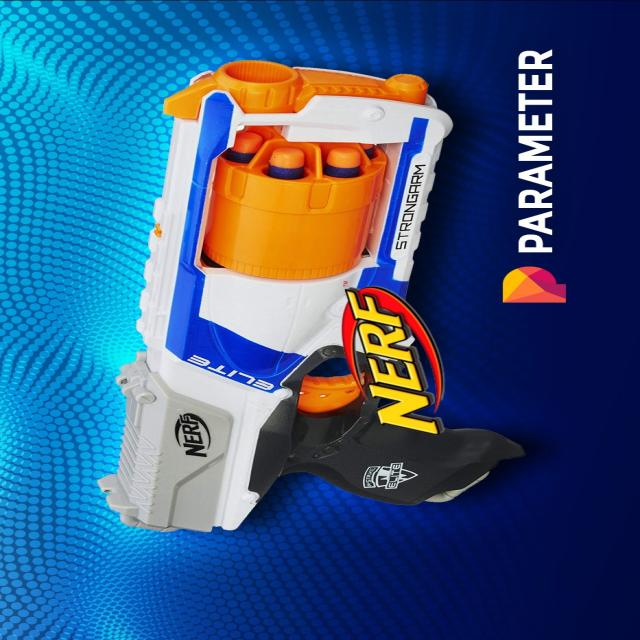Nerf gun: (88, 60, 544, 548)
